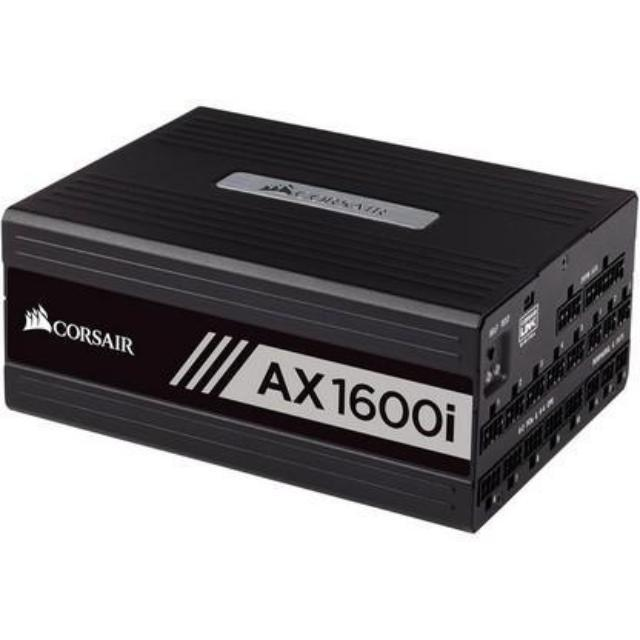PSU: (0, 100, 640, 532)
